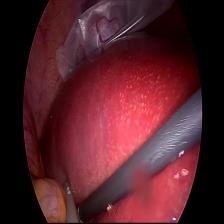Irrigator: (60, 178, 77, 205)
Specimen Bag: (52, 1, 178, 75)
